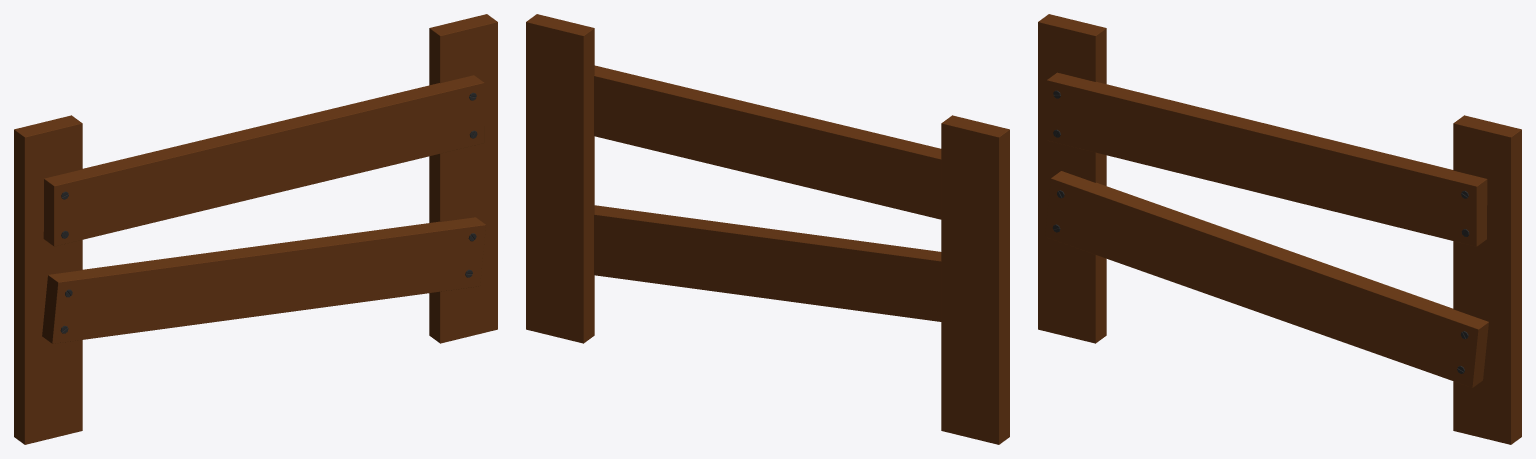
File: fence2.obj
The picture shows the model from 3 angles, left to right: view 1: azimuth 30°, elevation 25°; view 2: azimuth 150°, elevation 25°; view 3: azimuth 330°, elevation 25°; orthographic projection.
Visible parts, largest first — view 1: Fence2; view 2: Fence2; view 3: Fence2.
Boxes of the visible parts, box(x1,y1,x2,y2) form: Fence2: box(14, 14, 497, 444); Fence2: box(526, 14, 1009, 444); Fence2: box(1038, 14, 1521, 444).
Size of the model in its own units: 3.51 by 2.18 by 0.2806.
